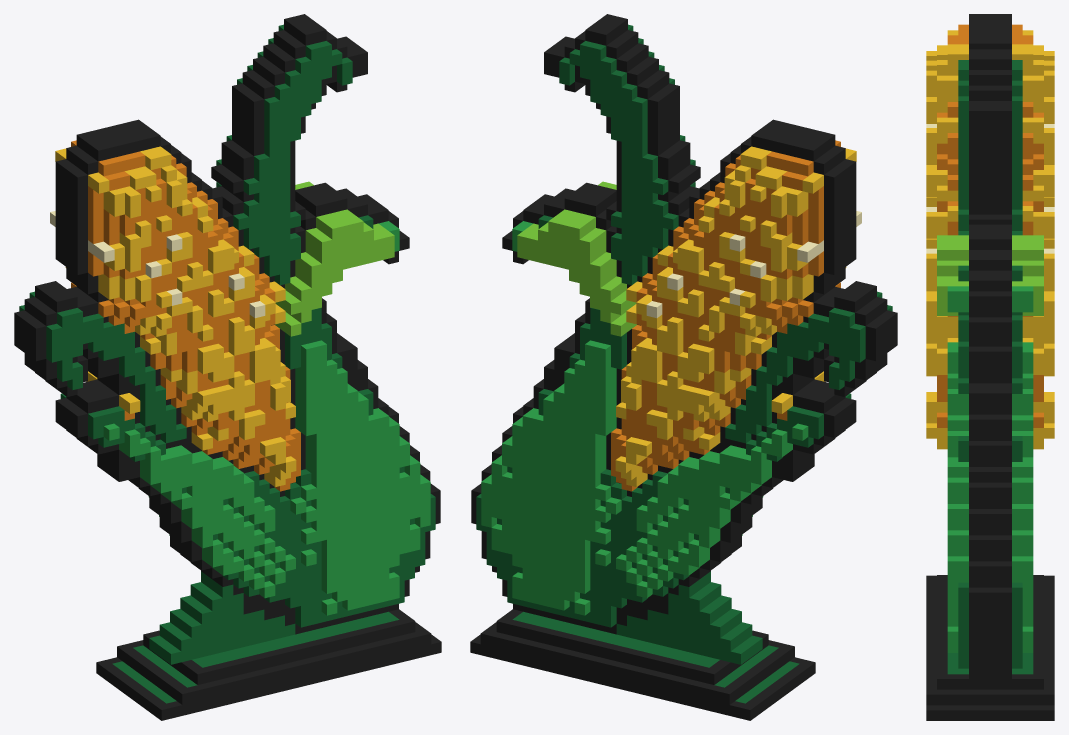
File: milho_voxel_3d_minecraft.obj
3 views of the same model, side by side, from view 1: azimuth 30°, elevation 25°; view 2: azimuth 150°, elevation 25°; view 3: azimuth 270°, elevation 25° (orthographic). The views are drawn at different scales.
Size of the model in its own units: 85.8 by 128 by 24.
